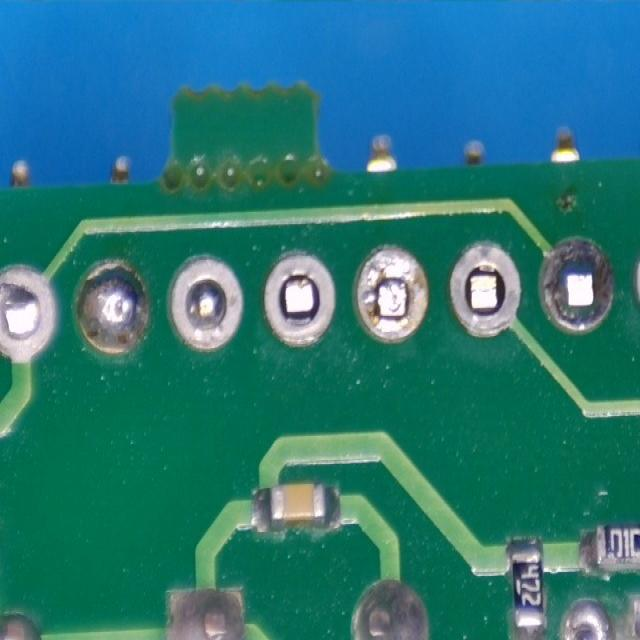Dry_joint: (77, 263, 147, 353), (171, 259, 241, 348), (0, 267, 52, 358)
